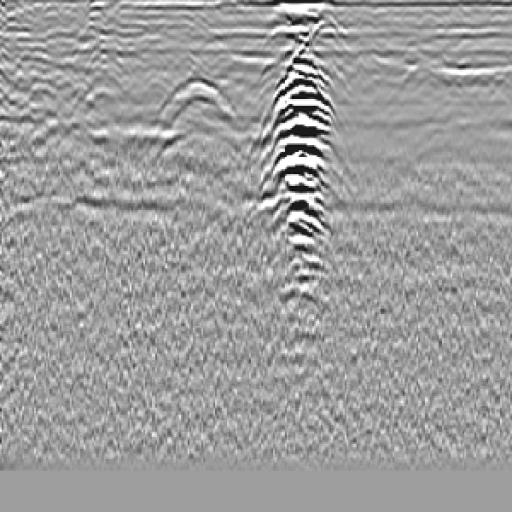metalic: (247, 33, 357, 317)
nonmetalic: (142, 62, 252, 179)
